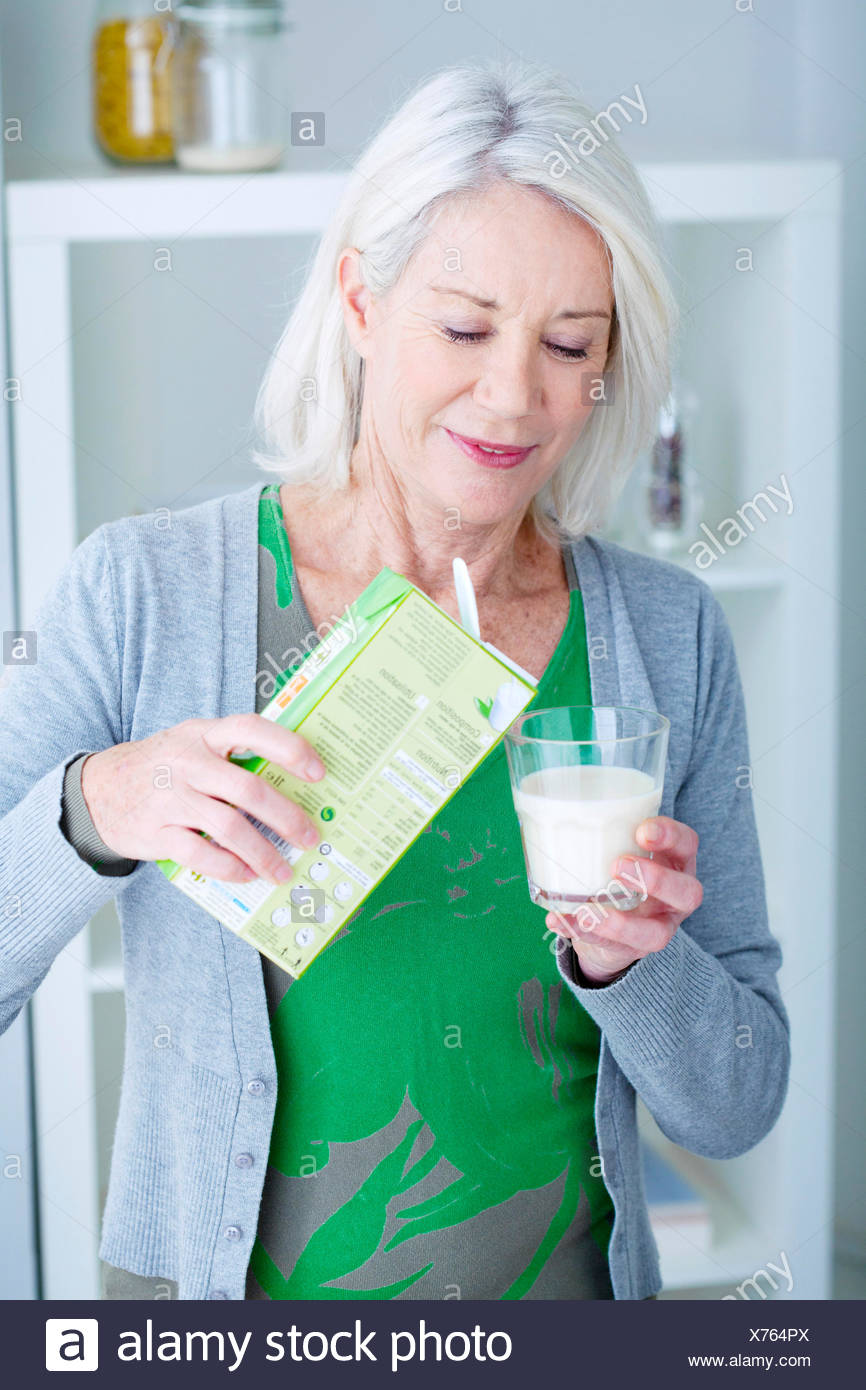carton: (128, 511, 543, 1043)
